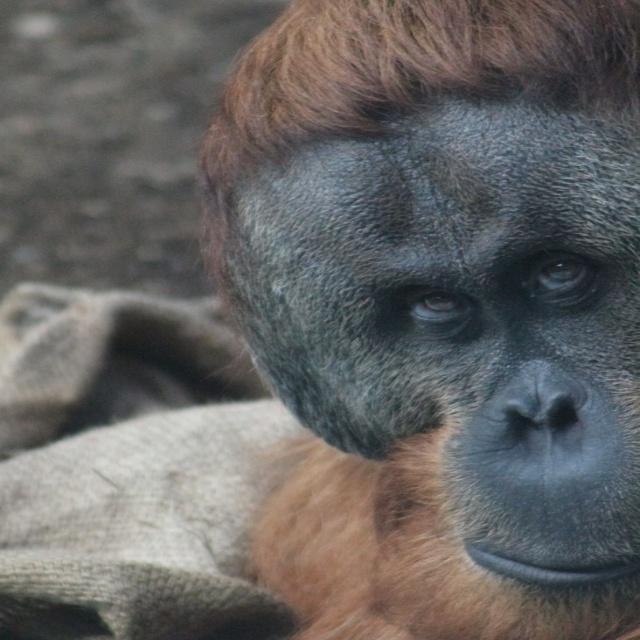Monkey: (197, 0, 640, 640)
